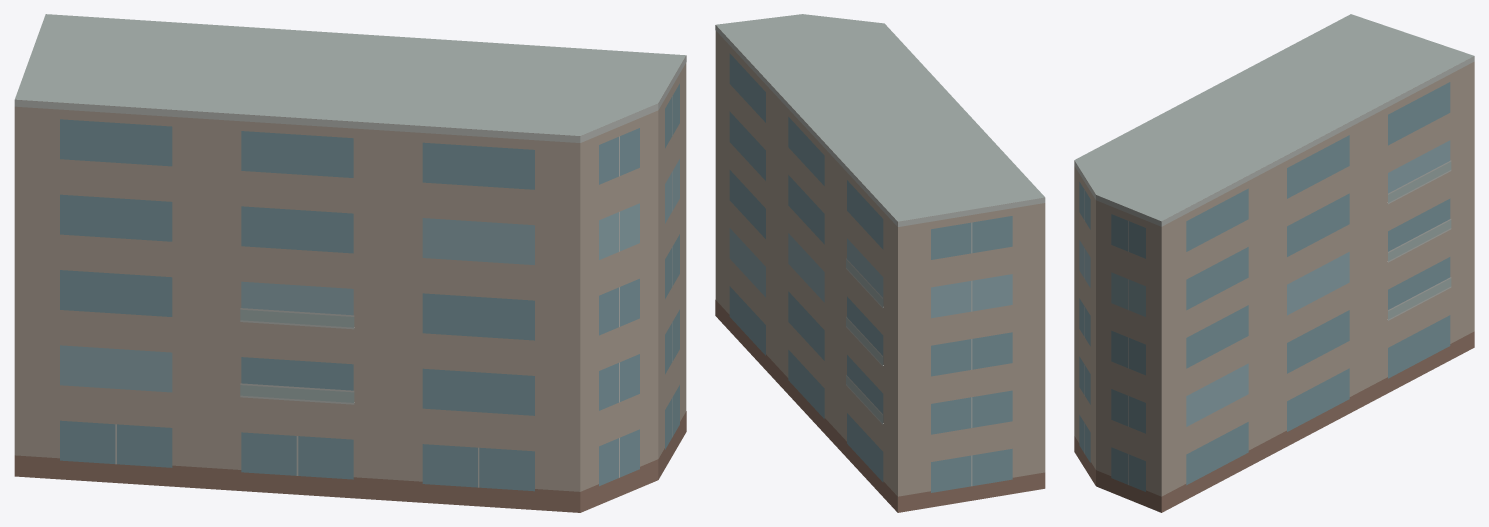
File: survey-upis-32626563.glb
3 renders of one model, left to right at view 1: azimuth 30°, elevation 25°; view 2: azimuth 150°, elevation 25°; view 3: azimuth 270°, elevation 25°, orthographic. The views are drawn at different scales.
Parts seen in each view (by area): view 1: survey-upis-32626563.tmp; view 2: survey-upis-32626563.tmp; view 3: survey-upis-32626563.tmp.
Part boxes in pixels (x1,y1,x2,y2): survey-upis-32626563.tmp: (14, 14, 686, 512); survey-upis-32626563.tmp: (715, 14, 1045, 512); survey-upis-32626563.tmp: (1074, 14, 1474, 512).
Size of the model in its own units: 20 by 13.1 by 16.32.
